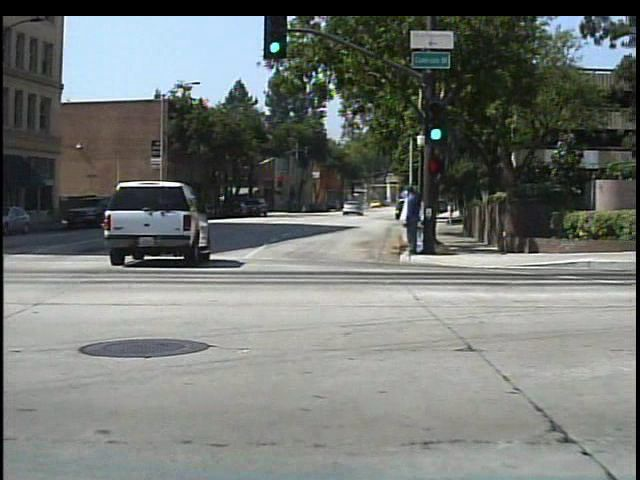person: (403, 184, 425, 256), (399, 189, 420, 257), (298, 199, 311, 214)
